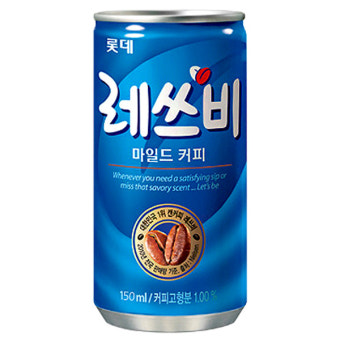paper: (87, 6, 252, 334)
